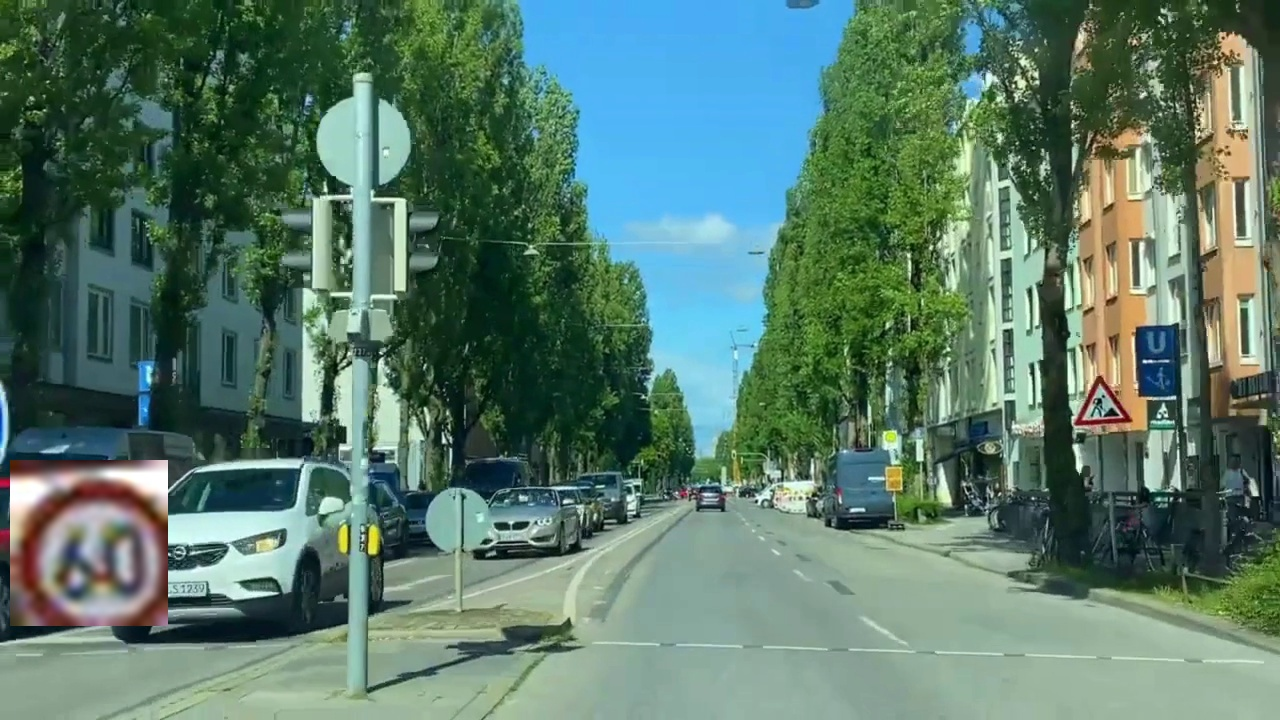Speed 60: (10, 460, 168, 626)
